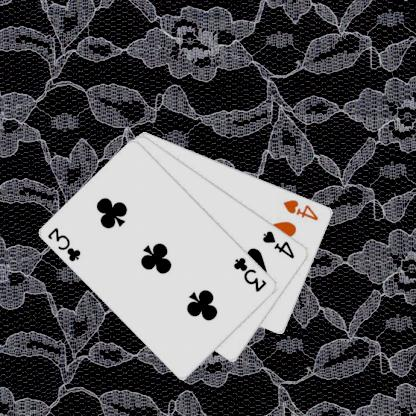3C: (45, 224, 83, 264), (231, 254, 268, 294)
4H: (281, 196, 320, 222)
4S: (260, 228, 296, 260)
